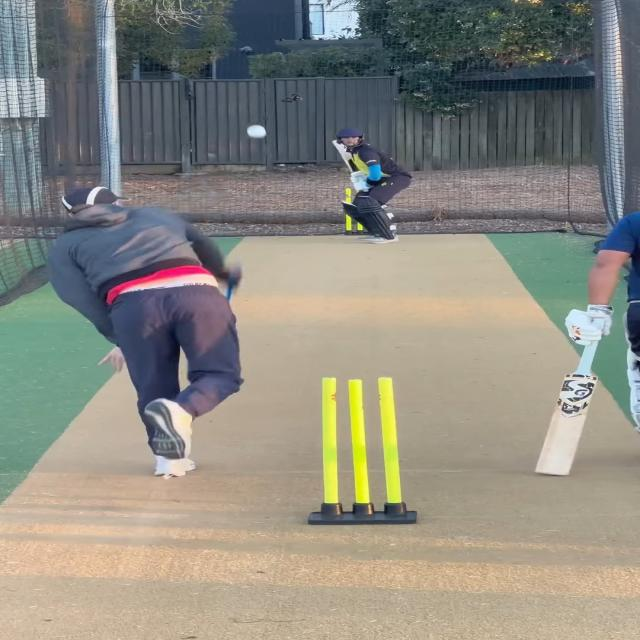ball: (242, 122, 272, 142)
stump: (311, 375, 415, 525), (347, 187, 372, 235)
